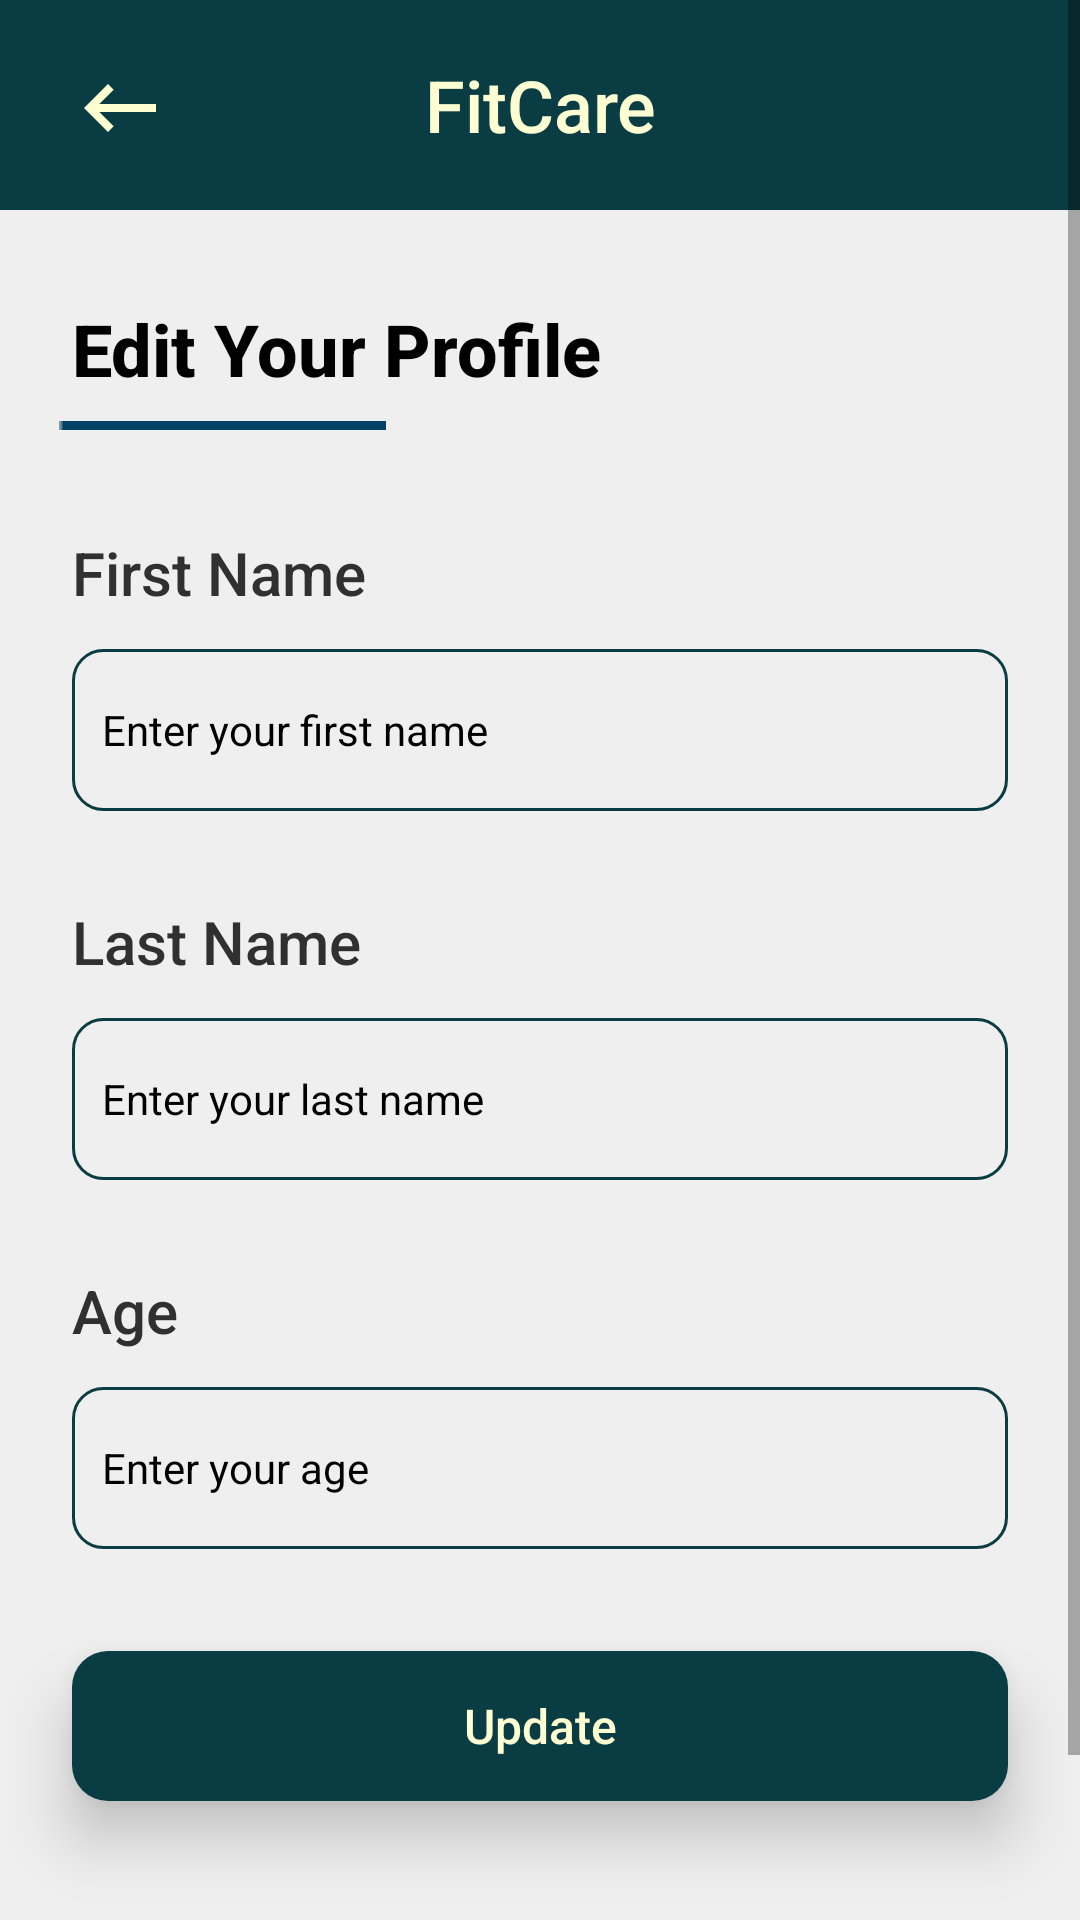

Screen size 1080px x 1920px. Icon name, then its box in pixels as (x1, y1, x2, y2):
back: (84, 84, 156, 132)
